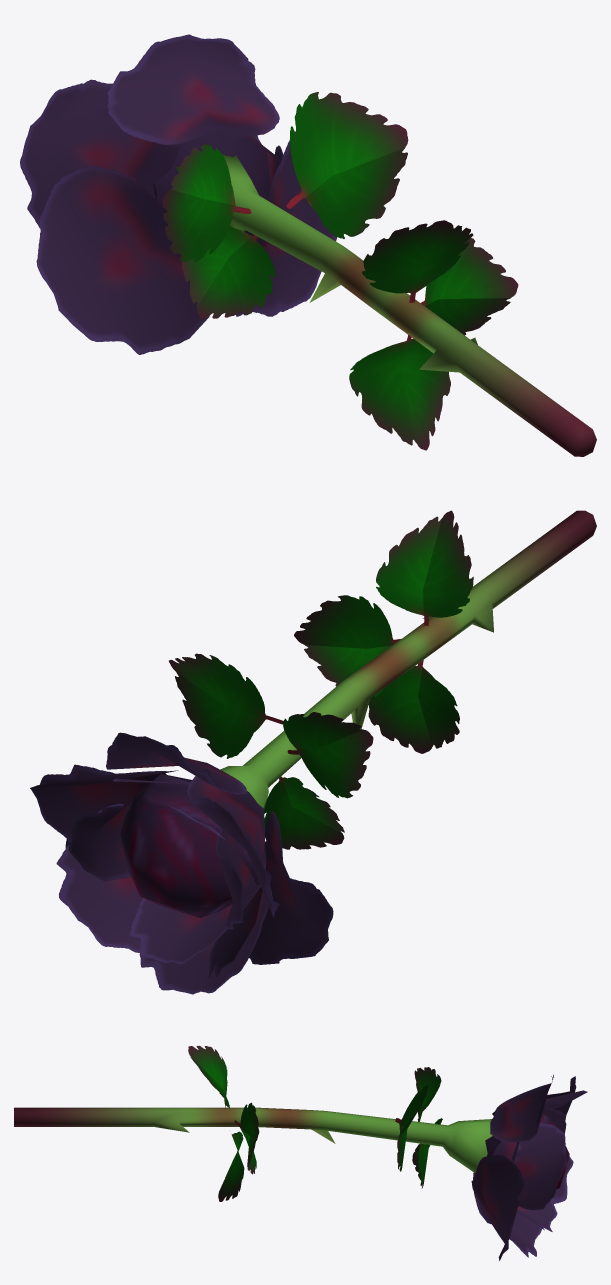
File: SM_Rose_Black_Open.fbx
The picture shows the model from 3 angles, top to bottom: view 1: azimuth 30°, elevation 25°; view 2: azimuth 150°, elevation 25°; view 3: azimuth 270°, elevation 25°; orthographic projection. The views are drawn at different scales.
Parts seen in each view (by area): view 1: Rose_Black_Open; view 2: Rose_Black_Open; view 3: Rose_Black_Open.
Part boxes in pixels (x1=…): Rose_Black_Open: x1=20, y1=34, x2=596, y2=456; Rose_Black_Open: x1=30, y1=510, x2=596, y2=994; Rose_Black_Open: x1=14, y1=1046, x2=587, y2=1260.
Bounding box in the file's own units: 50.21 × 50.94 × 127.
